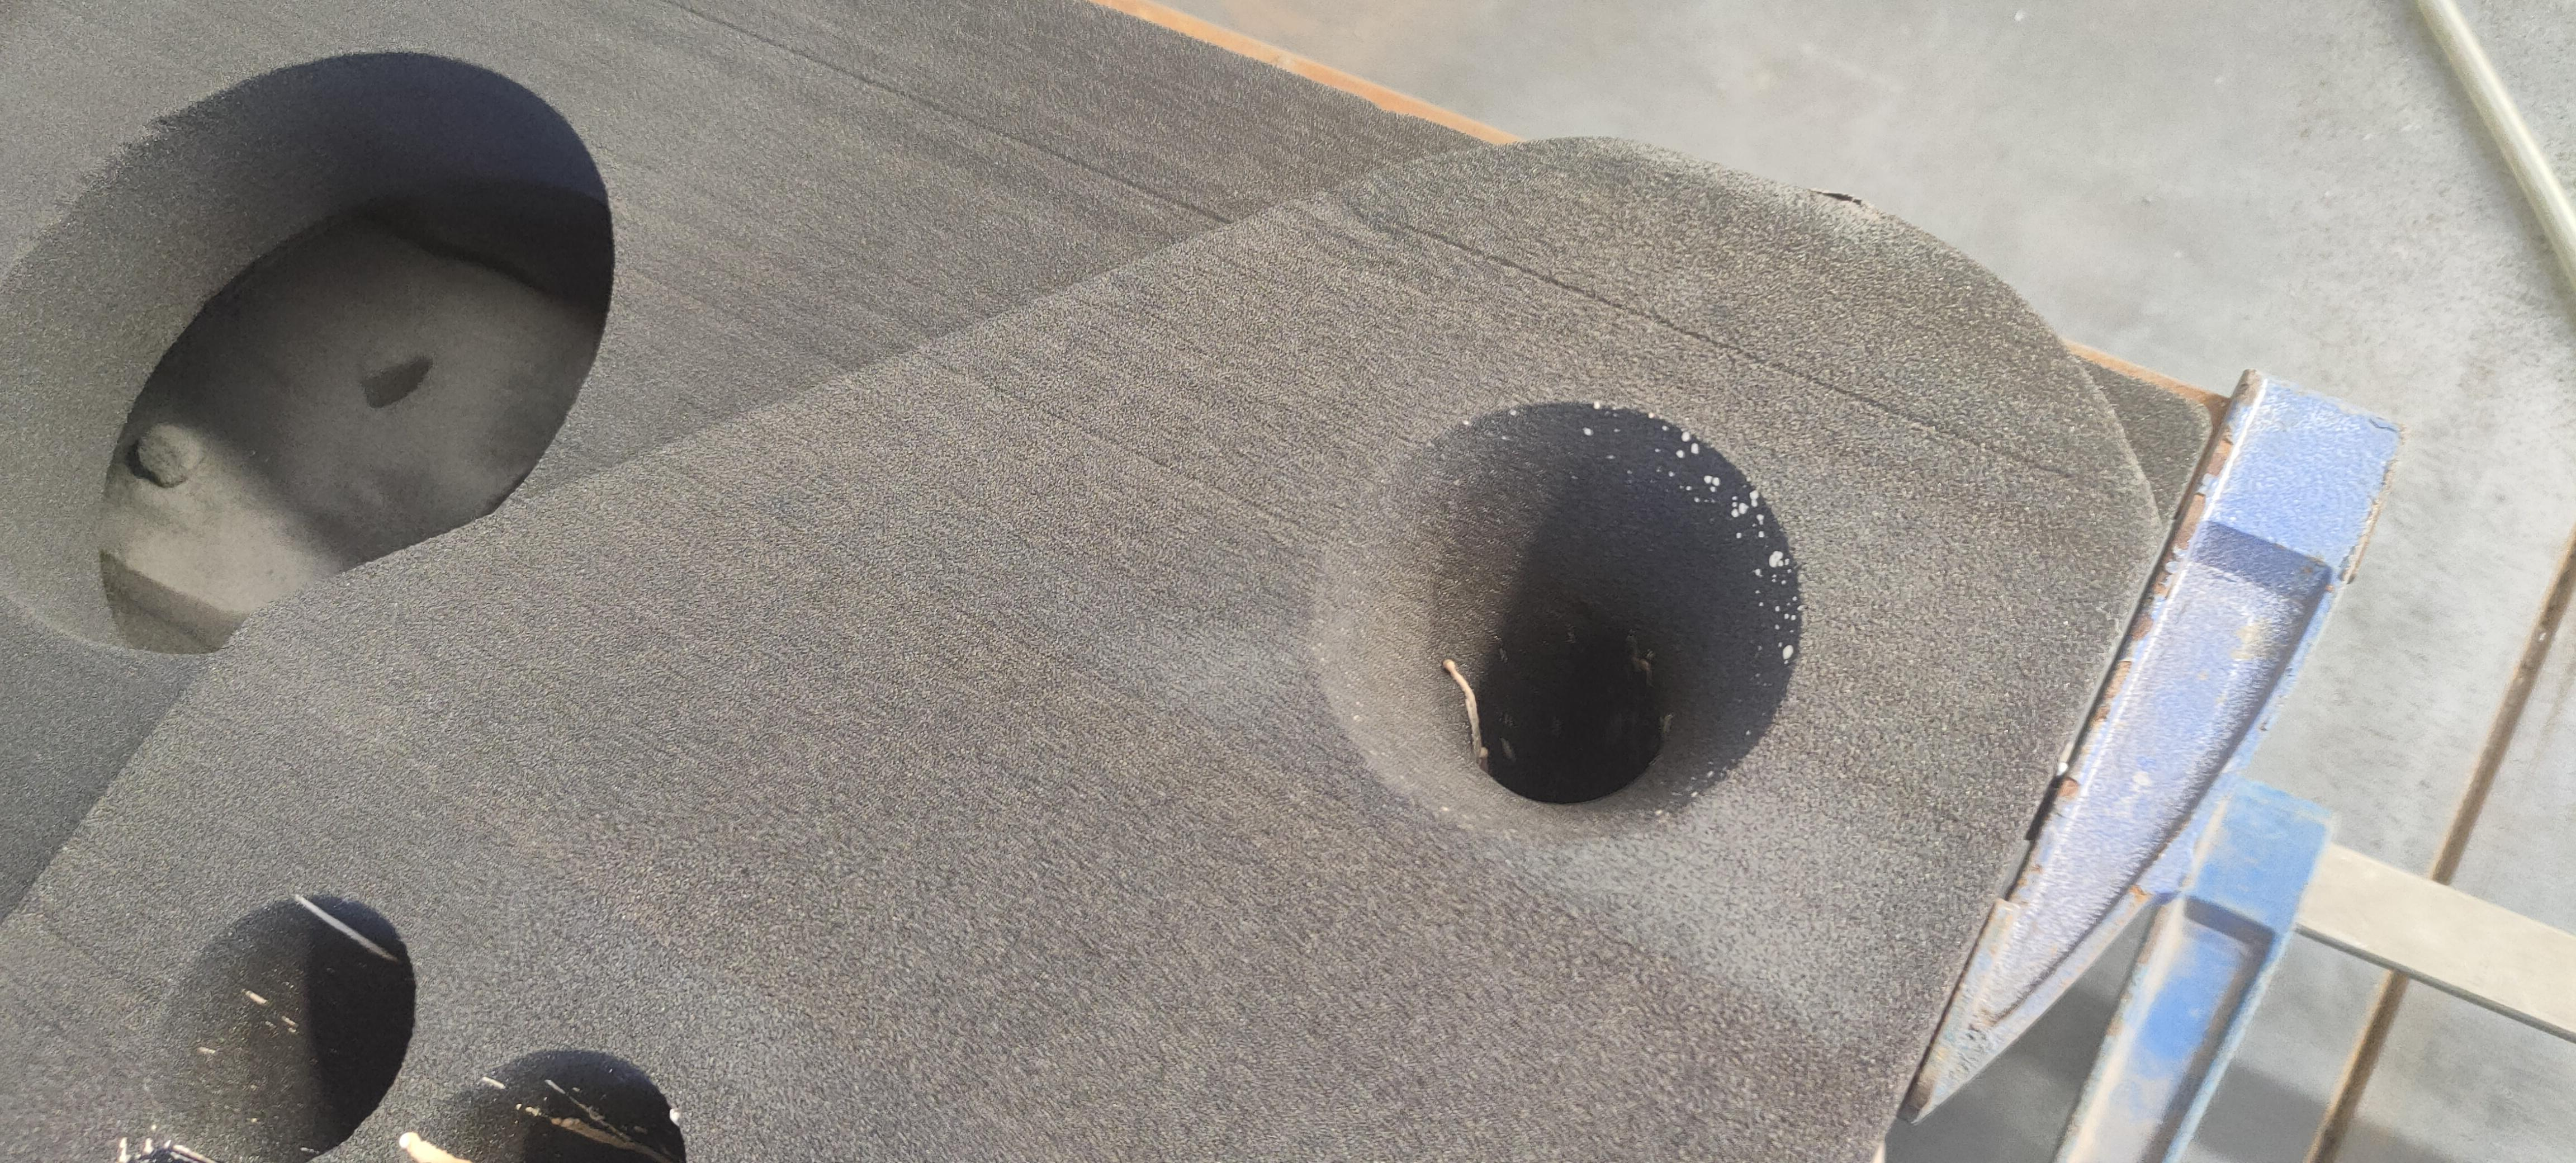pouring hole: (1308, 399, 1804, 841)
